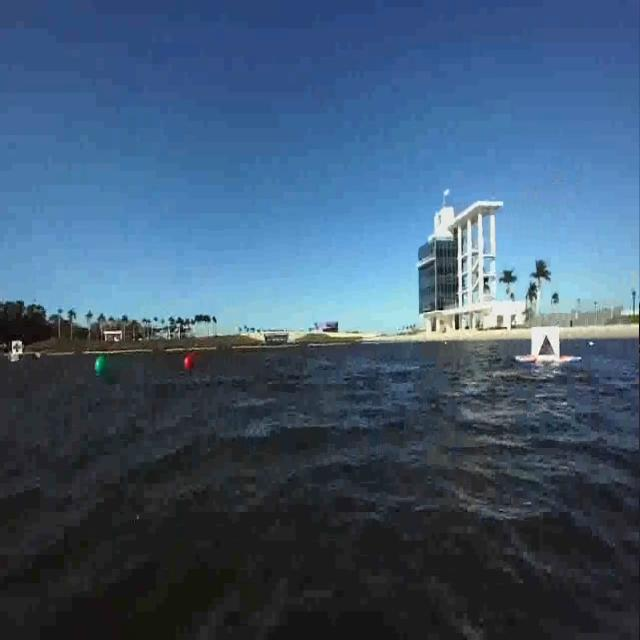green-buoy: (93, 356, 106, 373)
red-buoy: (185, 354, 193, 370)
